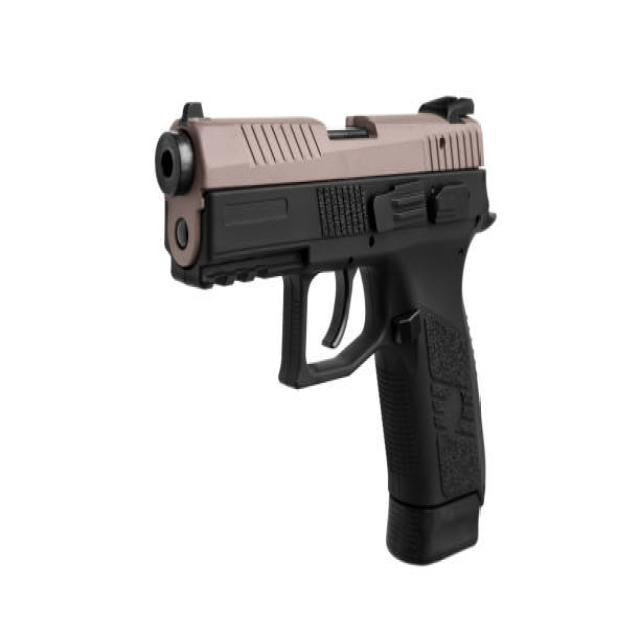pistol: (151, 88, 504, 569)
